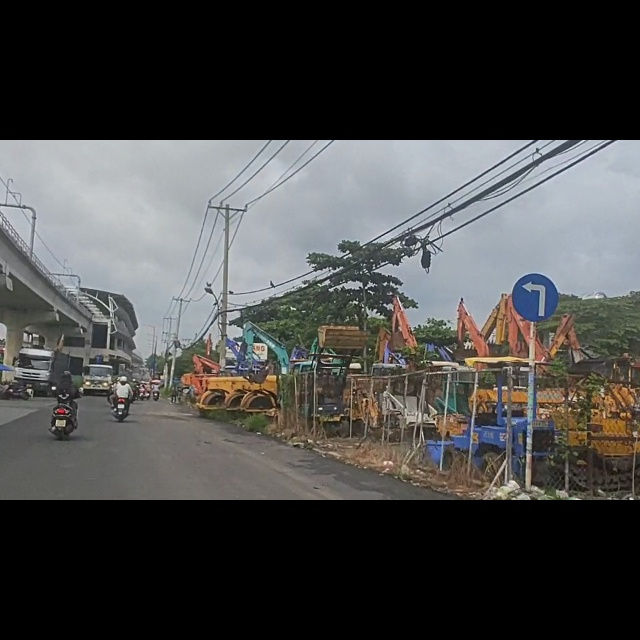bien_chi_dan: (512, 236, 559, 324)
